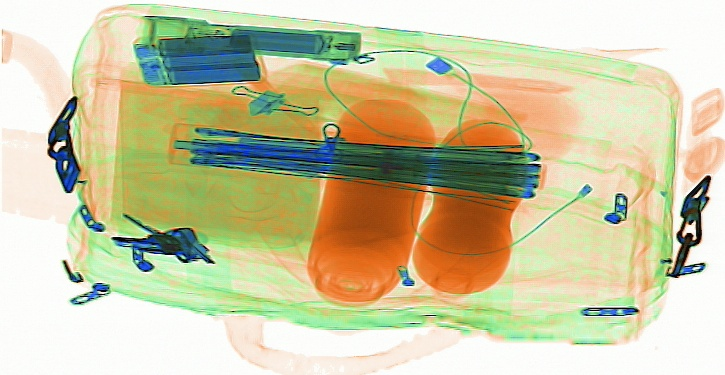powerbank: (130, 32, 267, 88)
